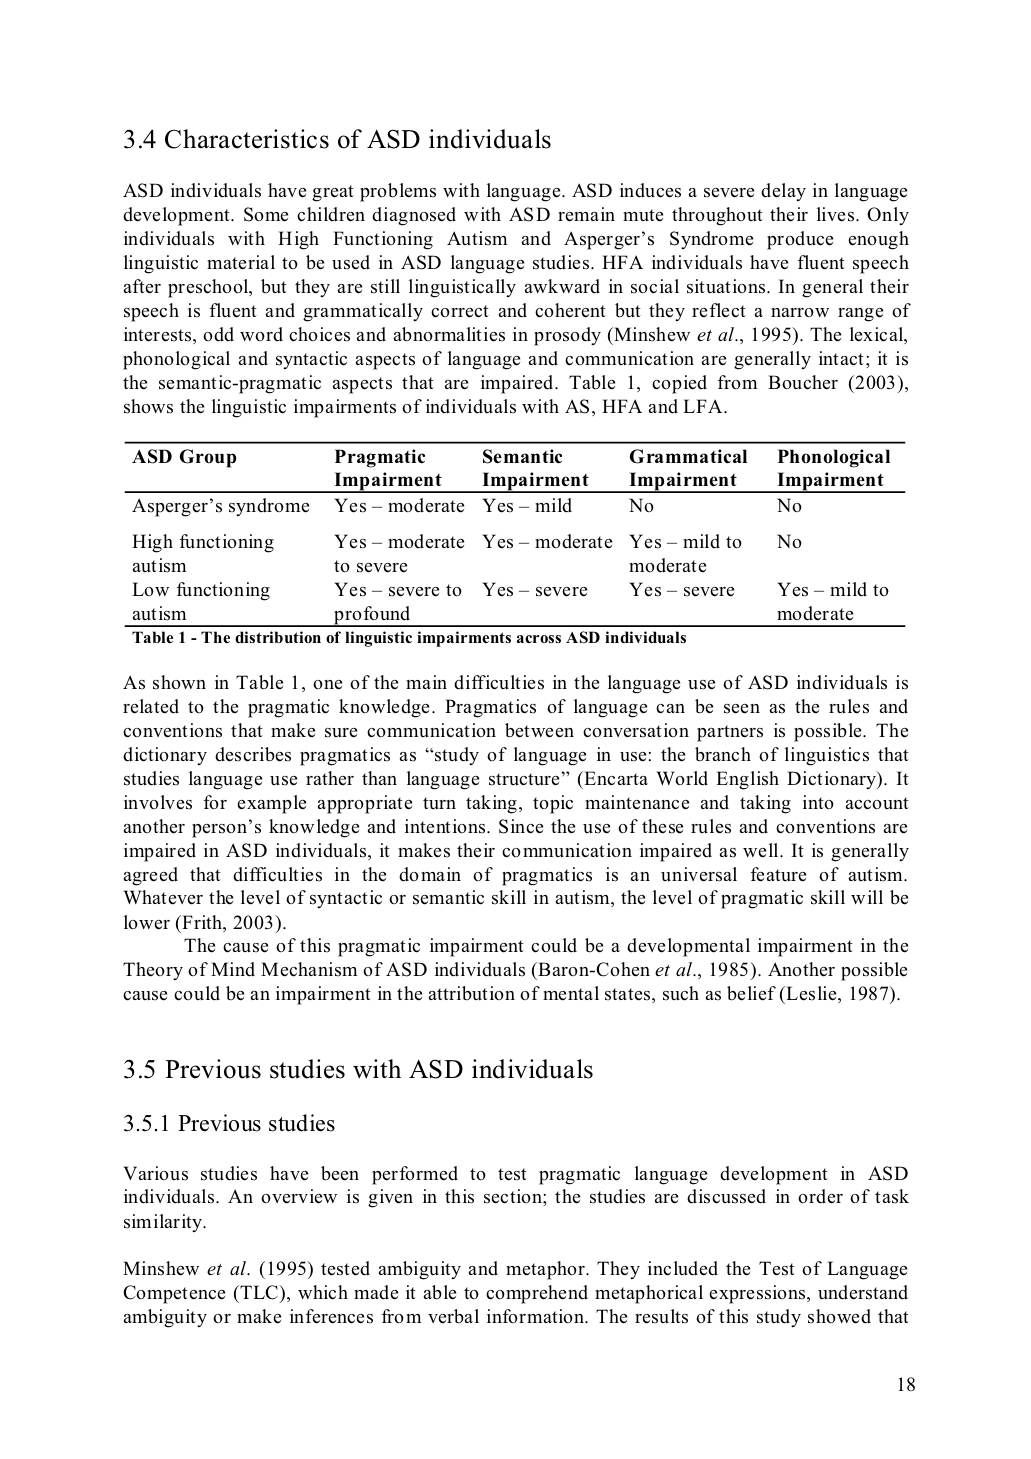Table: (124, 441, 905, 626)
